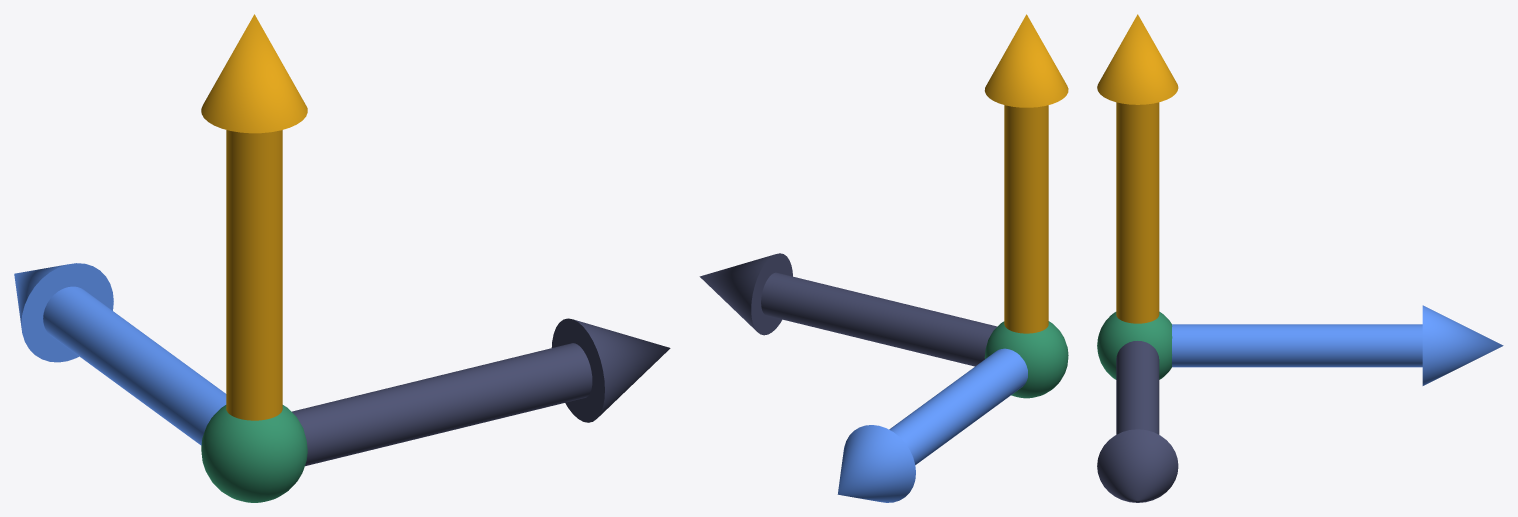
Rendered from Axis.obj.
3 renders of one model, left to right at view 1: azimuth 30°, elevation 25°; view 2: azimuth 150°, elevation 25°; view 3: azimuth 270°, elevation 25°, orthographic. The views are drawn at different scales.
Visible parts, largest first — view 1: Cone, Cone.001, Cone.002, Sphere; view 2: Cone, Cone.001, Cone.002, Sphere; view 3: Cone.002, Cone, Cone.001, Sphere.
Part boxes in pixels (box(x1,y1,x2,y2)): Cone: box(201, 14, 307, 420); Cone.001: box(292, 318, 670, 466); Cone.002: box(14, 263, 226, 445); Sphere: box(201, 405, 307, 502); Cone: box(984, 14, 1068, 333); Cone.001: box(699, 253, 997, 366); Cone.002: box(837, 348, 1027, 502); Sphere: box(984, 321, 1068, 398); Cone.002: box(1172, 305, 1503, 385); Cone: box(1097, 14, 1178, 323); Cone.001: box(1097, 341, 1178, 502); Sphere: box(1097, 311, 1172, 379).
Size of the model in its own units: 10 by 10 by 10.
